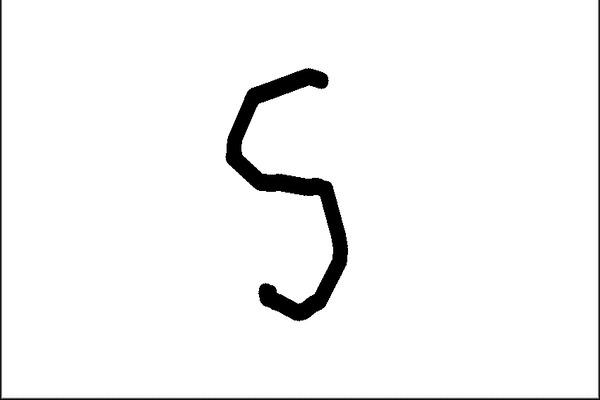S: (222, 63, 352, 321)
